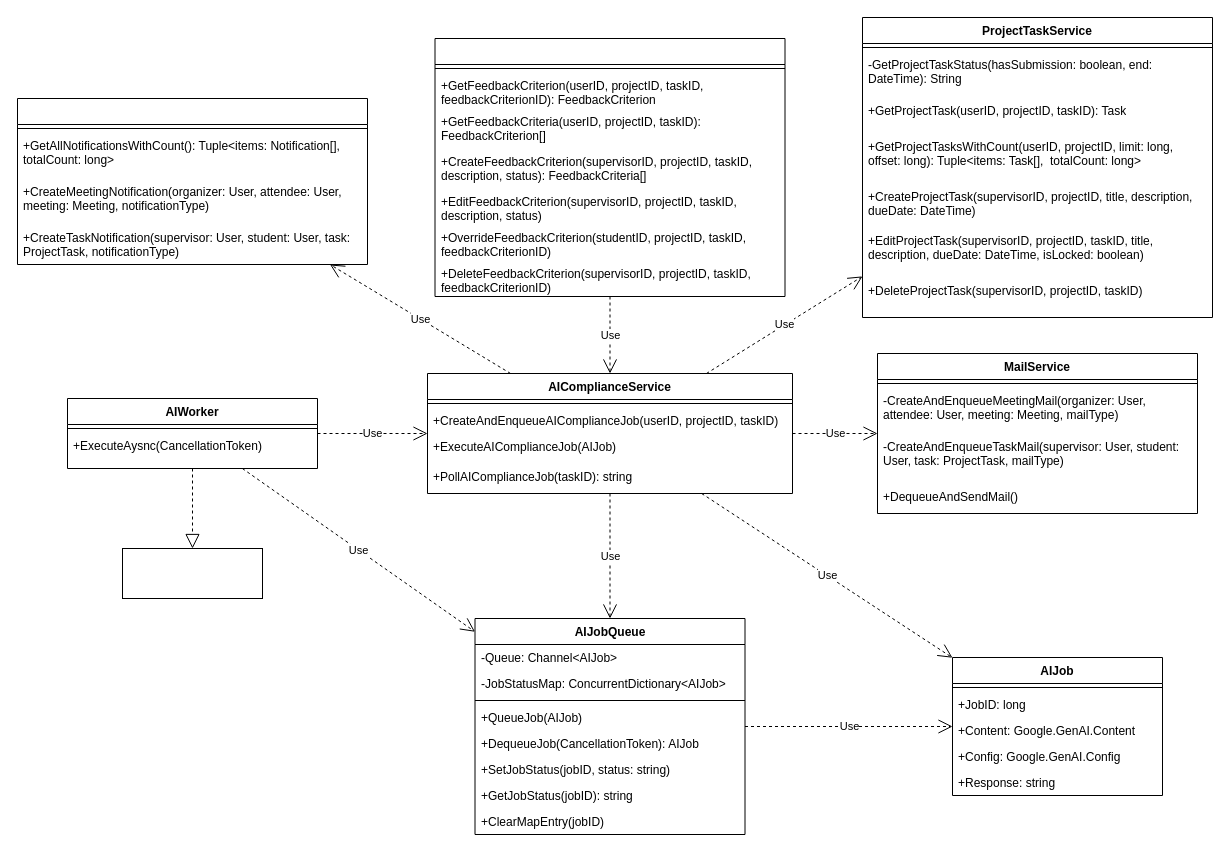
This 1230x855 diagram has some shape labels left out. Here are the shapes that lost their labels. From the top down, the box of each, then its label:
(16, 98, 368, 264): NotificationService
(434, 38, 785, 296): FeedbackService
(122, 548, 262, 598): «interface» BackgroundService
